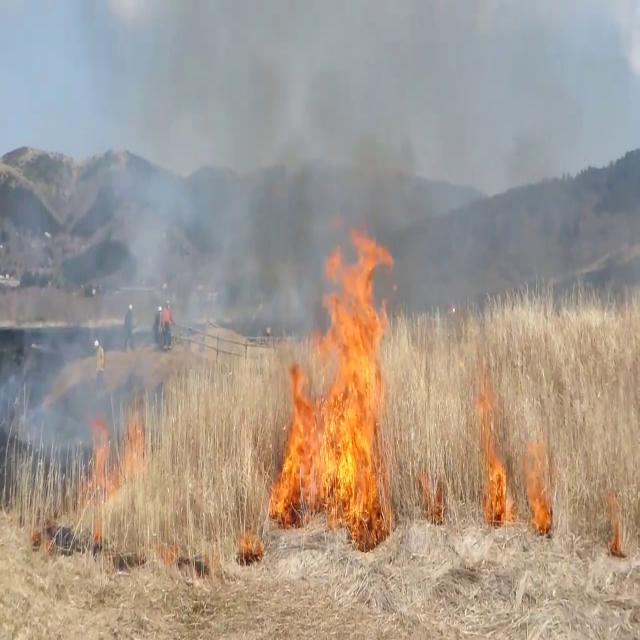Fire: (273, 222, 400, 525), (472, 375, 550, 533), (472, 375, 514, 526)
Smoke: (5, 4, 397, 384)
